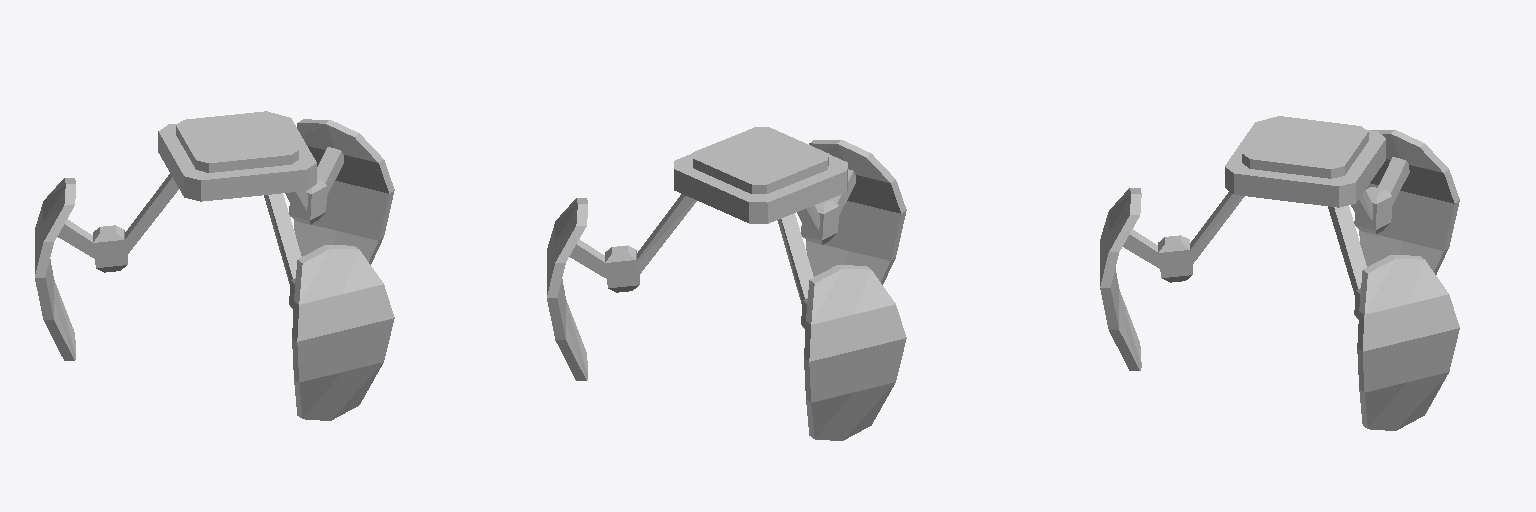
Rendered from tower_legs.obj.
3 views of the same model, side by side, from view 1: azimuth 30°, elevation 25°; view 2: azimuth 150°, elevation 25°; view 3: azimuth 270°, elevation 25° (orthographic).
Visible parts, largest first — view 1: legs; view 2: legs; view 3: legs.
Boxes of the visible parts, box(x1,y1,x2,y2) form: legs: box(35, 111, 394, 420); legs: box(547, 127, 906, 440); legs: box(1100, 116, 1459, 430).
Bounding box in the file's own units: 39.66 × 23.3 × 34.35.